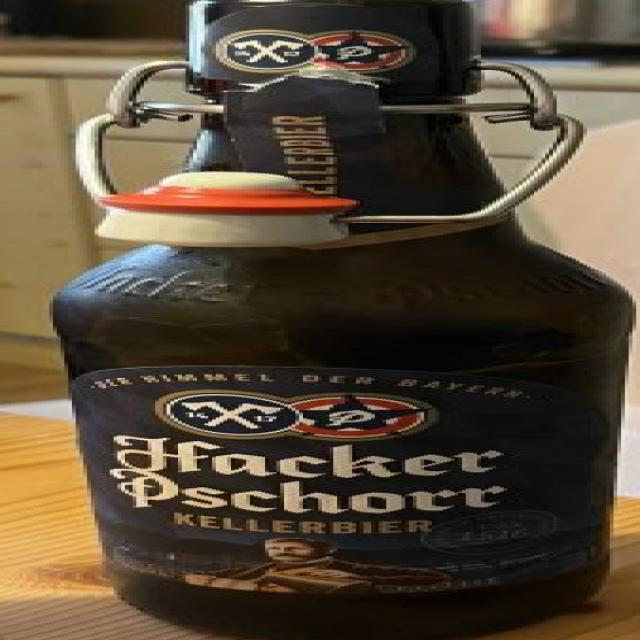Hacker Pschorr Kellerbier: (0, 1, 640, 640)
